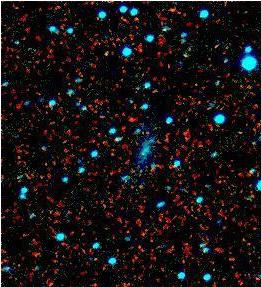star: (118, 108, 148, 138)
